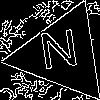N: (36, 29, 82, 80)
